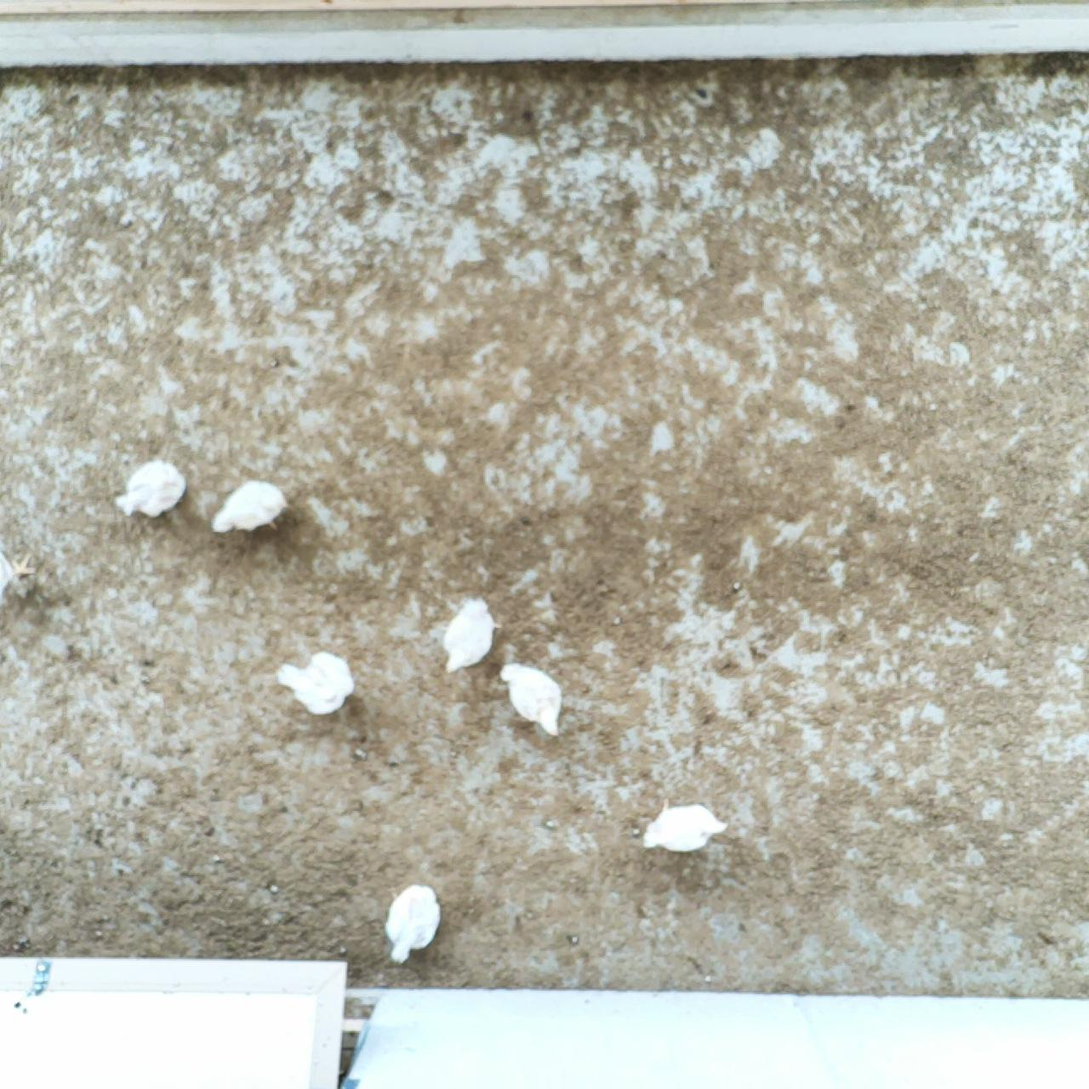chicken: (641, 793, 732, 856), (275, 650, 357, 717), (440, 594, 505, 678), (497, 660, 563, 740), (211, 477, 287, 539), (384, 881, 441, 963), (115, 457, 190, 519)
